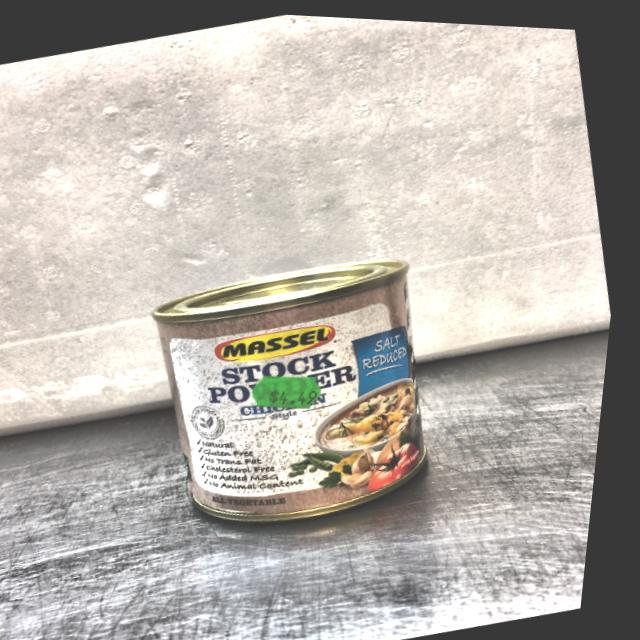Cans: (114, 204, 514, 581)
